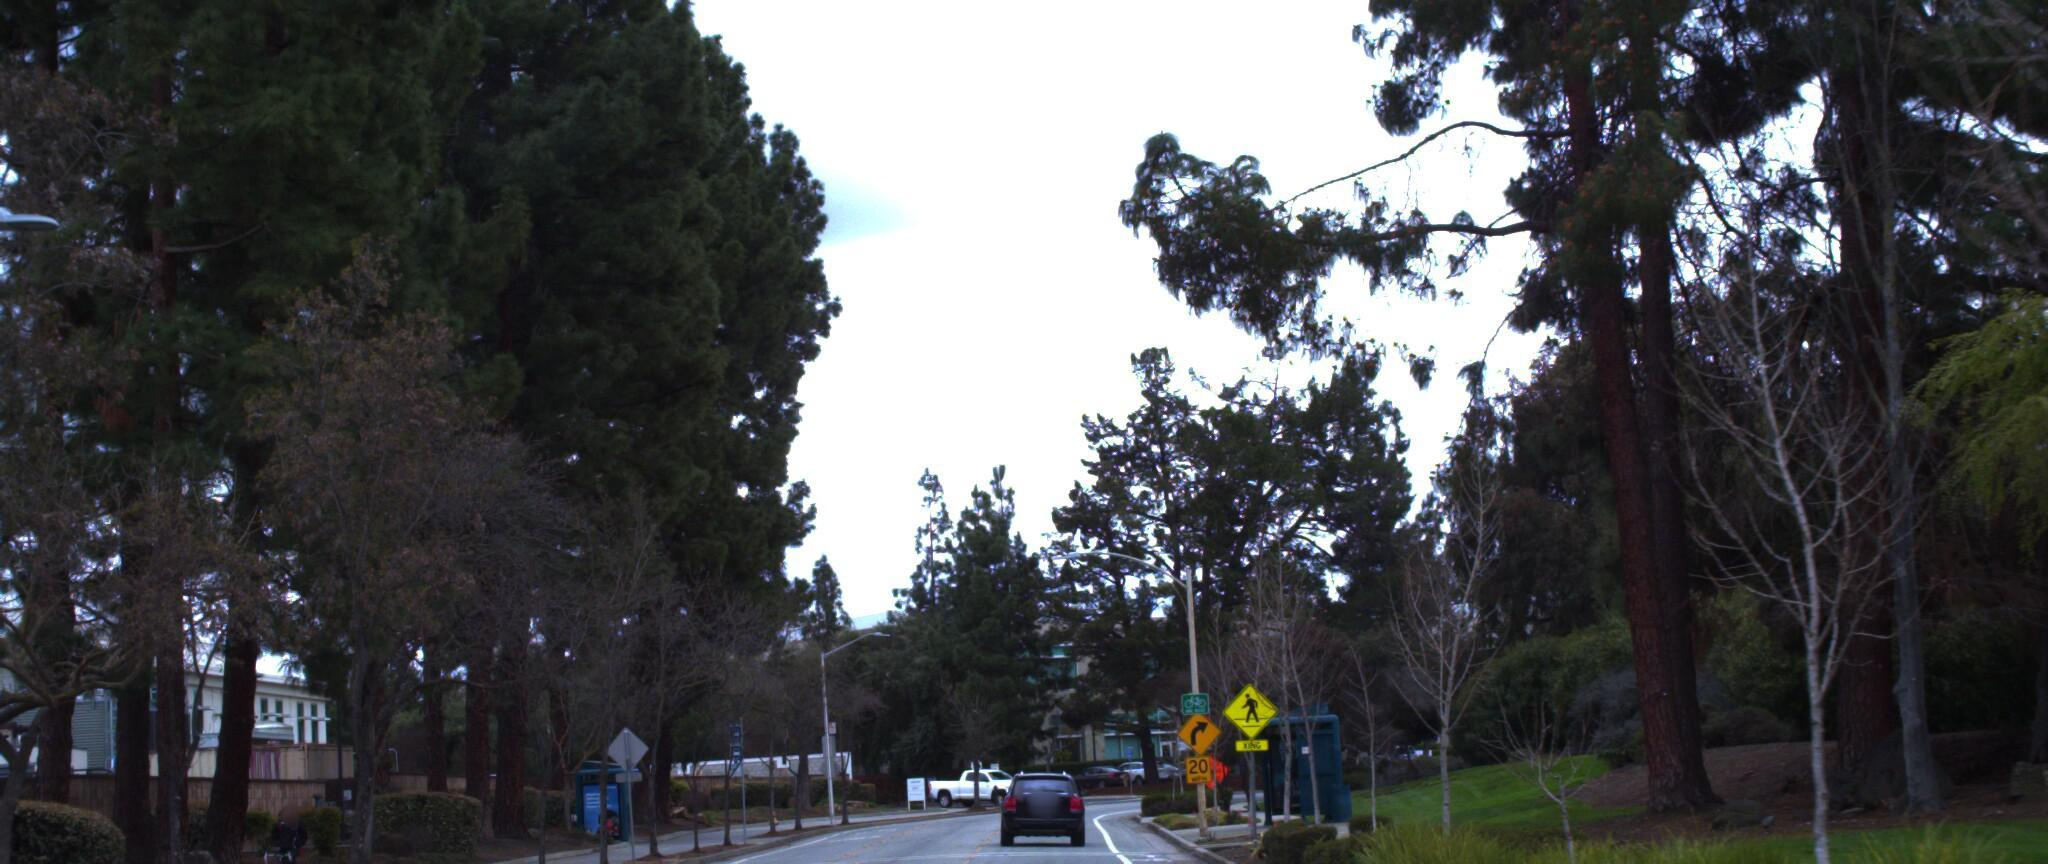bicycle: (263, 804, 328, 864)
car: (1004, 741, 1092, 820)
